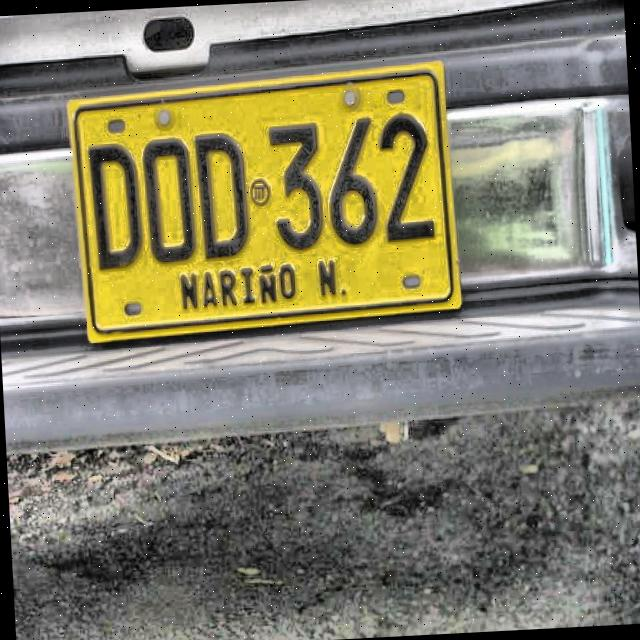2: (376, 109, 441, 246)
3: (264, 117, 328, 257)
6: (320, 112, 382, 249)
D: (84, 139, 147, 274), (191, 128, 254, 263)
O: (139, 134, 200, 268)
